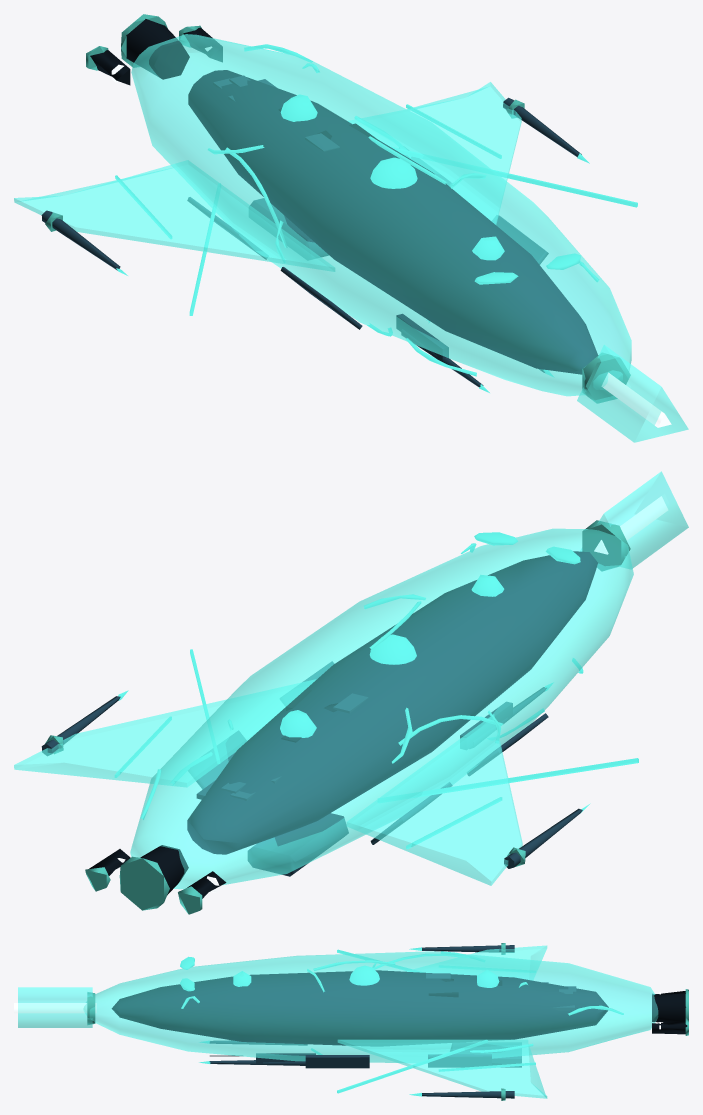
The model's file is refleks-swietlisci-trade-70-lod1.glb.
3 renders of one model, top to bottom at view 1: azimuth 30°, elevation 25°; view 2: azimuth 150°, elevation 25°; view 3: azimuth 270°, elevation 25°, orthographic. The views are drawn at different scales.
Bounding box in the file's own units: 10.07 × 3.14 × 19.
